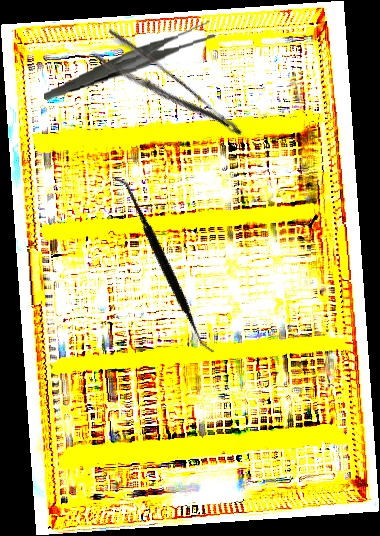Dressing Forceps: (89, 25, 247, 160), (39, 20, 219, 100)
Spatula Surgical: (59, 173, 266, 357)
